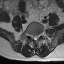CCS_normal: (34, 33, 36, 41)
LFS_normal: (38, 31, 41, 38)
LLS_normal: (36, 33, 38, 40)
RFS_normal: (29, 32, 31, 39)
RLS_normal: (31, 33, 34, 40)
